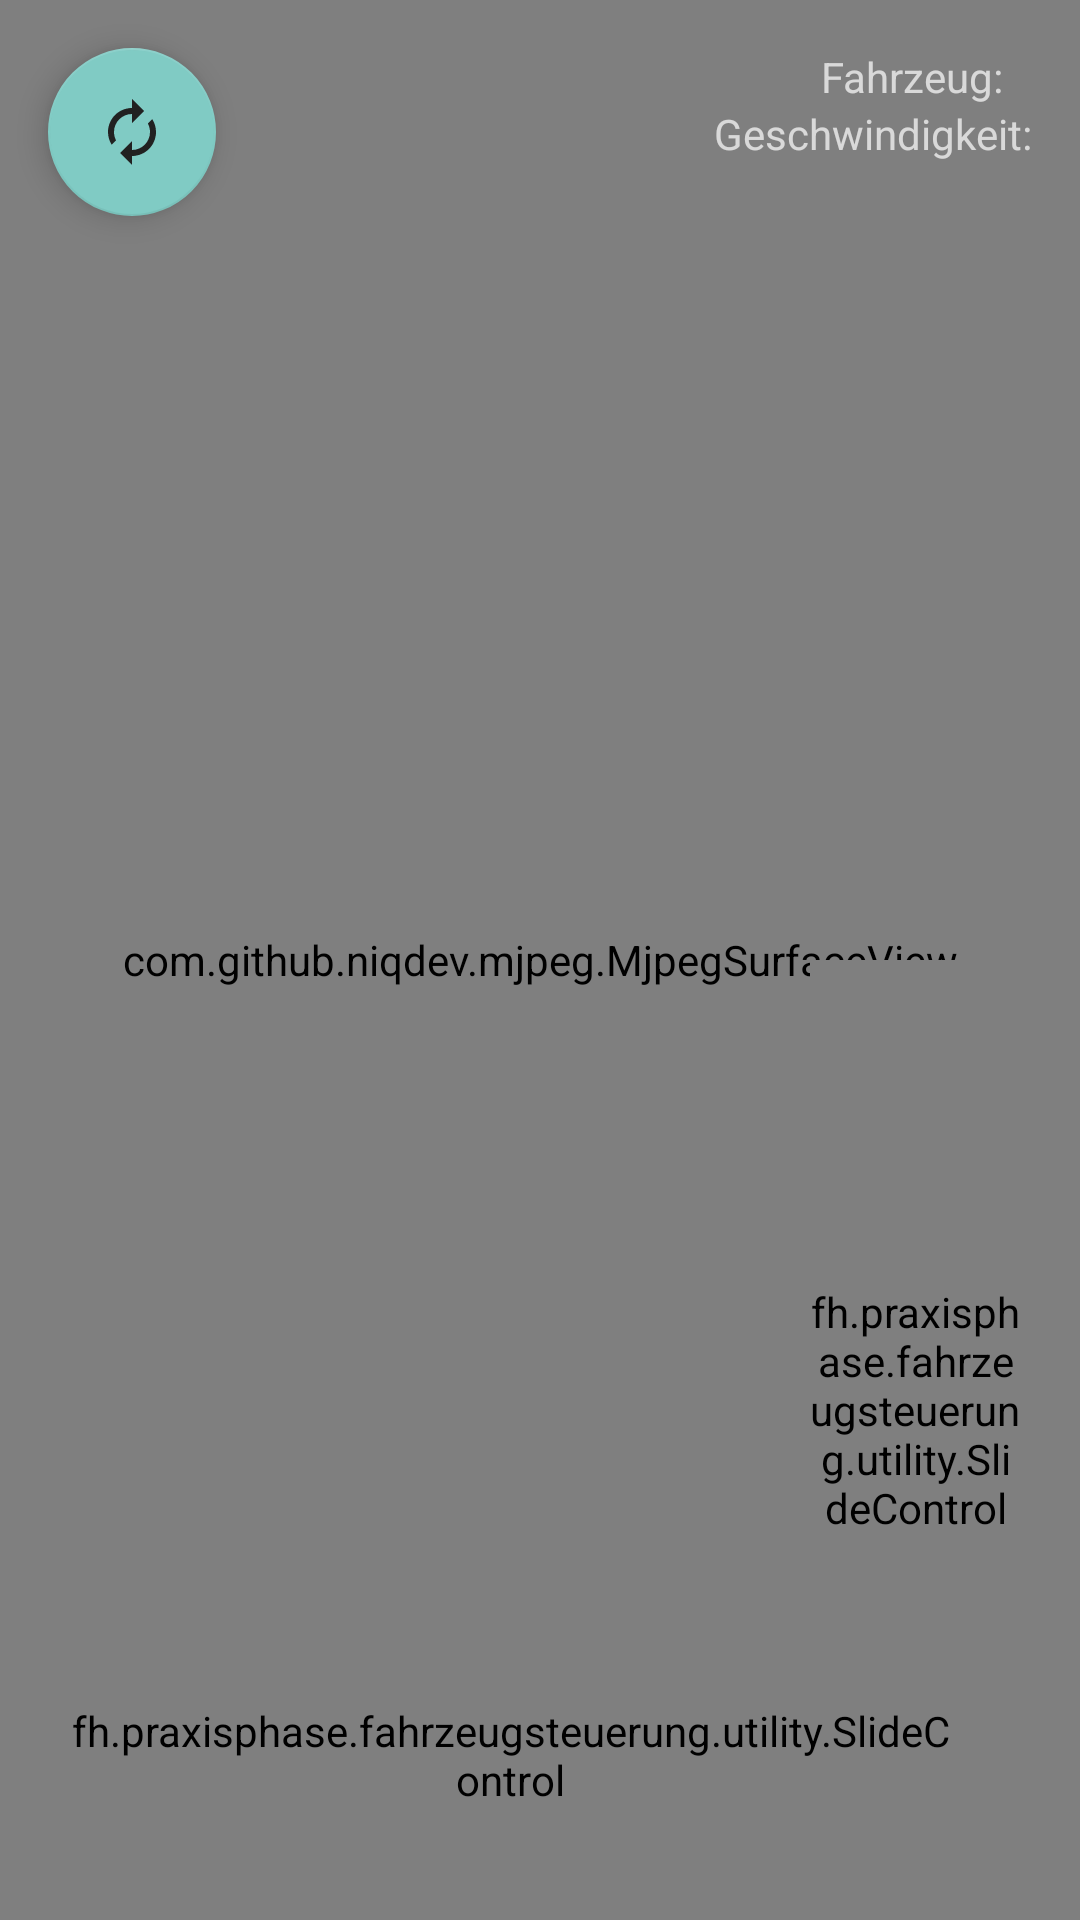

Where icons sit on this 1080w x 1920h app screen, as {"x1": x1, "y1": y1, "x2": x2, "y2": y2}:
change: {"x1": 48, "y1": 48, "x2": 216, "y2": 216}
